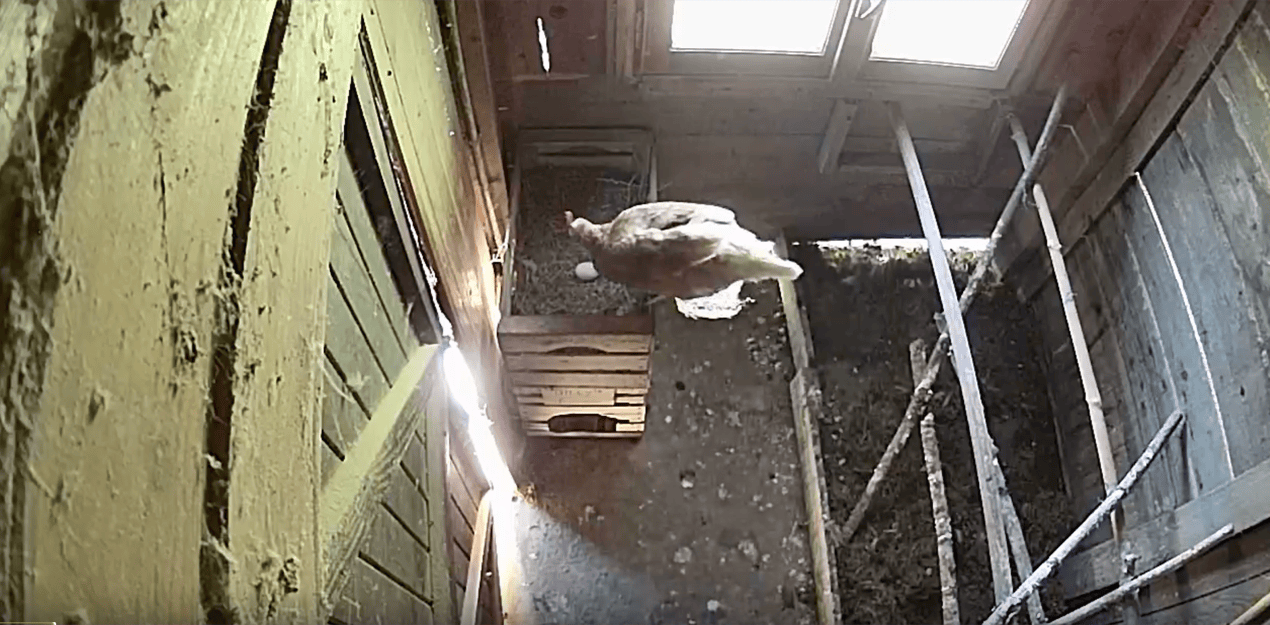chicken: (558, 185, 811, 309)
egg: (570, 256, 604, 285)
